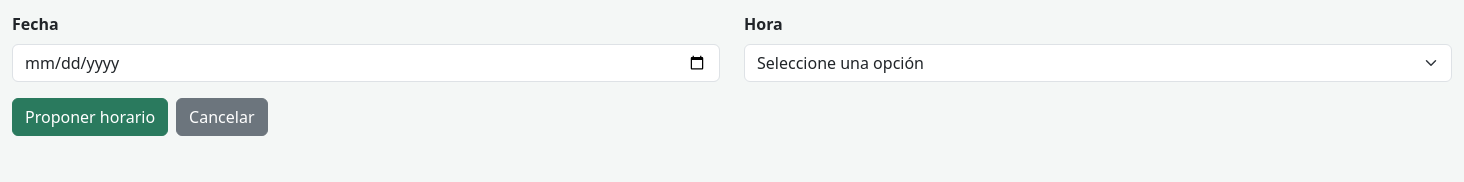
Scenario: FormularioReagendar › rechaza una fecha anterior a hoy
Type "2026-10-01" into the date field labelled "Fecha" at (366, 63), box [12, 44, 720, 82]
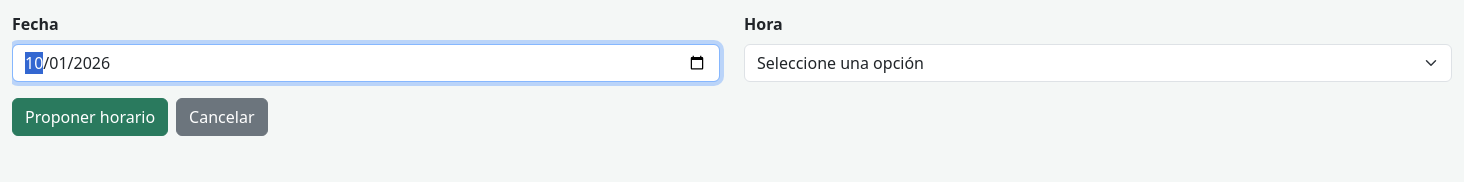
Select "10:00" in the dropdown labelled "Hora" at (1098, 63), box [744, 44, 1452, 82]
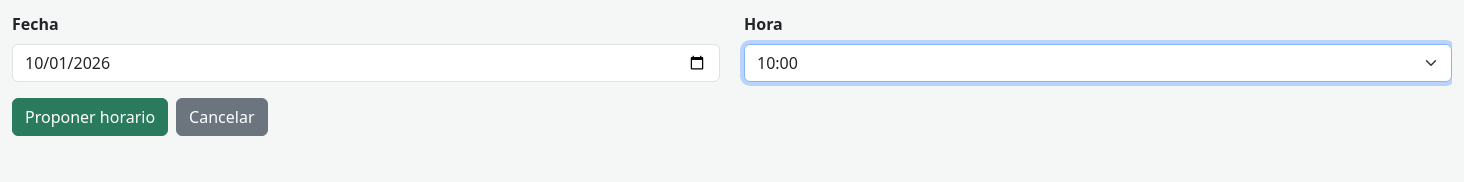
Click the button "Proponer horario" at (90, 117), box [12, 98, 168, 136]
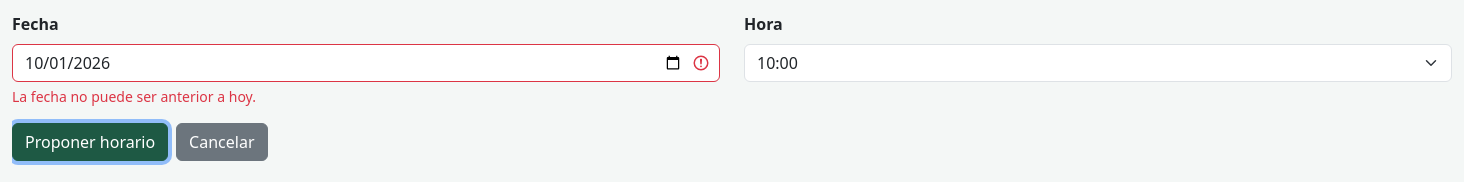
Now the message shows "anterior a hoy", box [12, 87, 256, 106]
